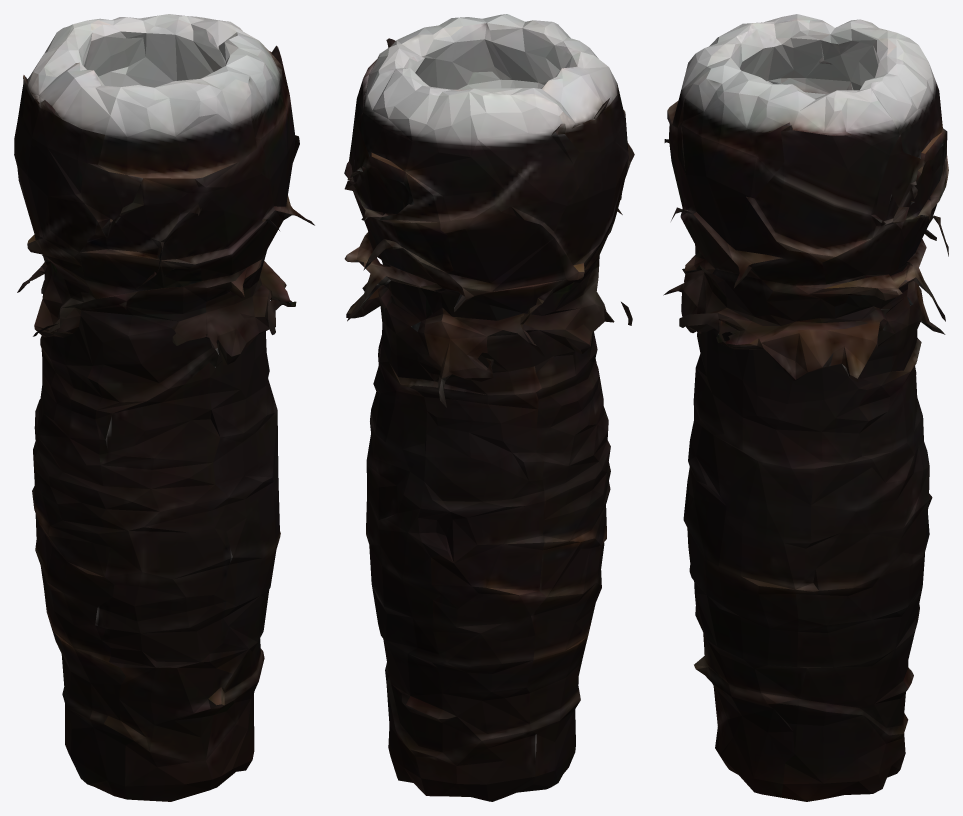
The model's file is fresh-coconut.glb.
The picture shows the model from 3 angles, left to right: view 1: azimuth 30°, elevation 25°; view 2: azimuth 150°, elevation 25°; view 3: azimuth 270°, elevation 25°; orthographic projection.
Visible parts, largest first — view 1: geometry_0; view 2: geometry_0; view 3: geometry_0.
Boxes of the visible parts, bbox=[...] form: geometry_0: bbox=[14, 14, 314, 801]; geometry_0: bbox=[344, 14, 634, 801]; geometry_0: bbox=[663, 14, 948, 801].
Size of the model in its own units: 0.3685 by 0.997 by 0.3607.
Materials: 1 (1 with a texture image).
